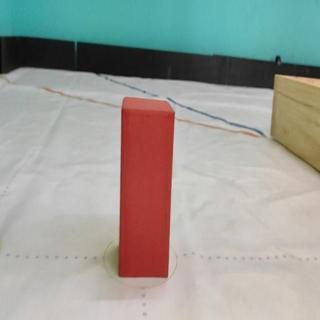redbox: (119, 97, 175, 279)
